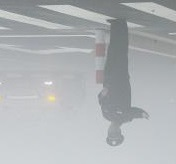person: (97, 17, 150, 146)
